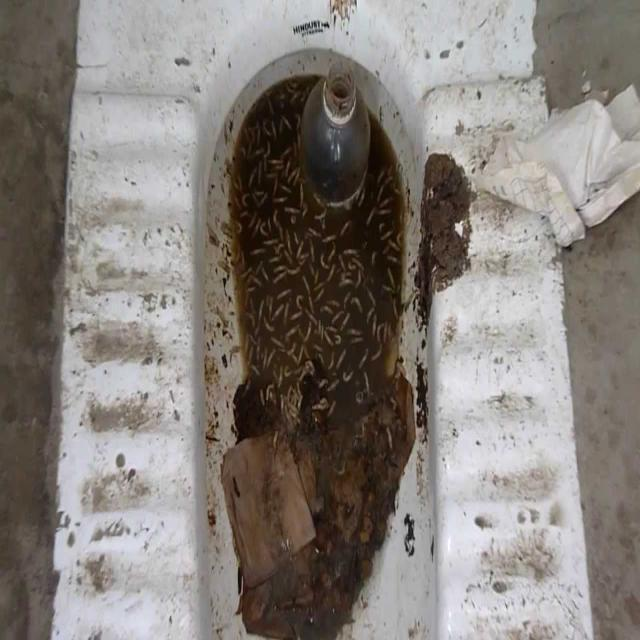dirty_floor: (6, 1, 637, 638)
